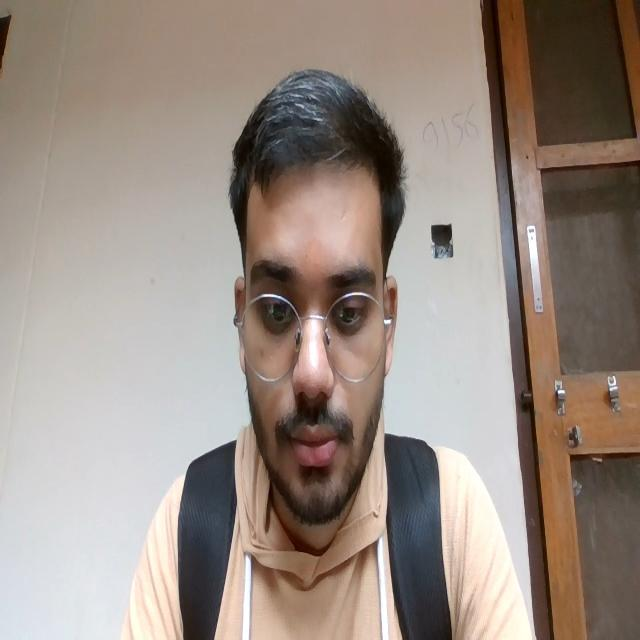awake: (245, 254, 378, 468)
